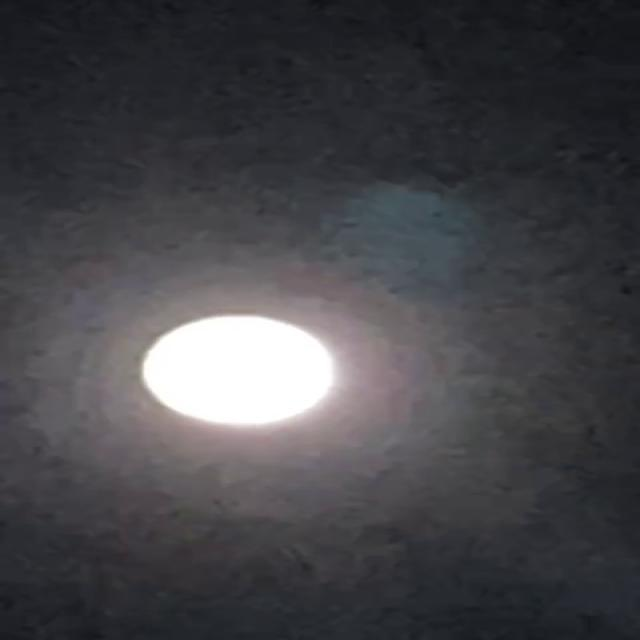moon: (114, 291, 352, 435)
